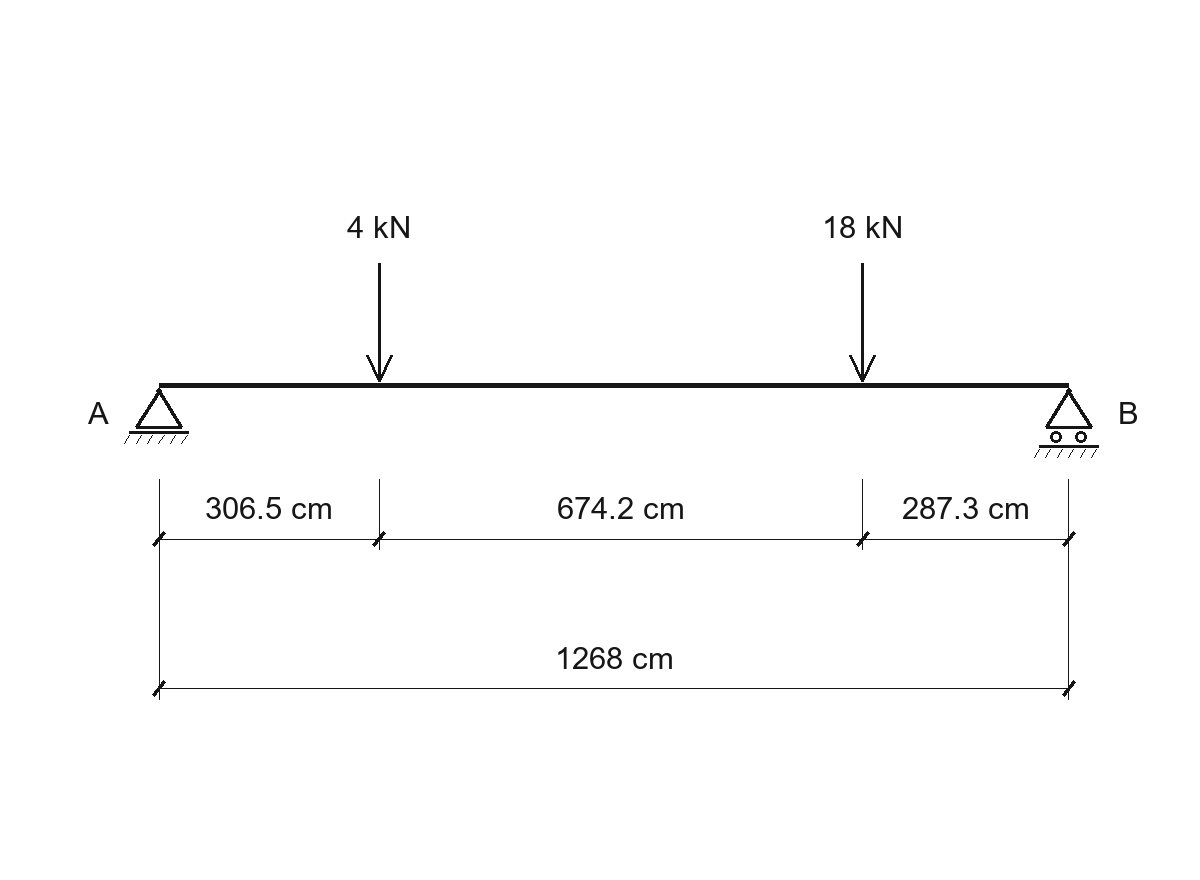pin_support: (124, 388, 189, 444)
point_load: (366, 263, 393, 382), (849, 263, 876, 382)
roller_support: (1034, 388, 1099, 458)
